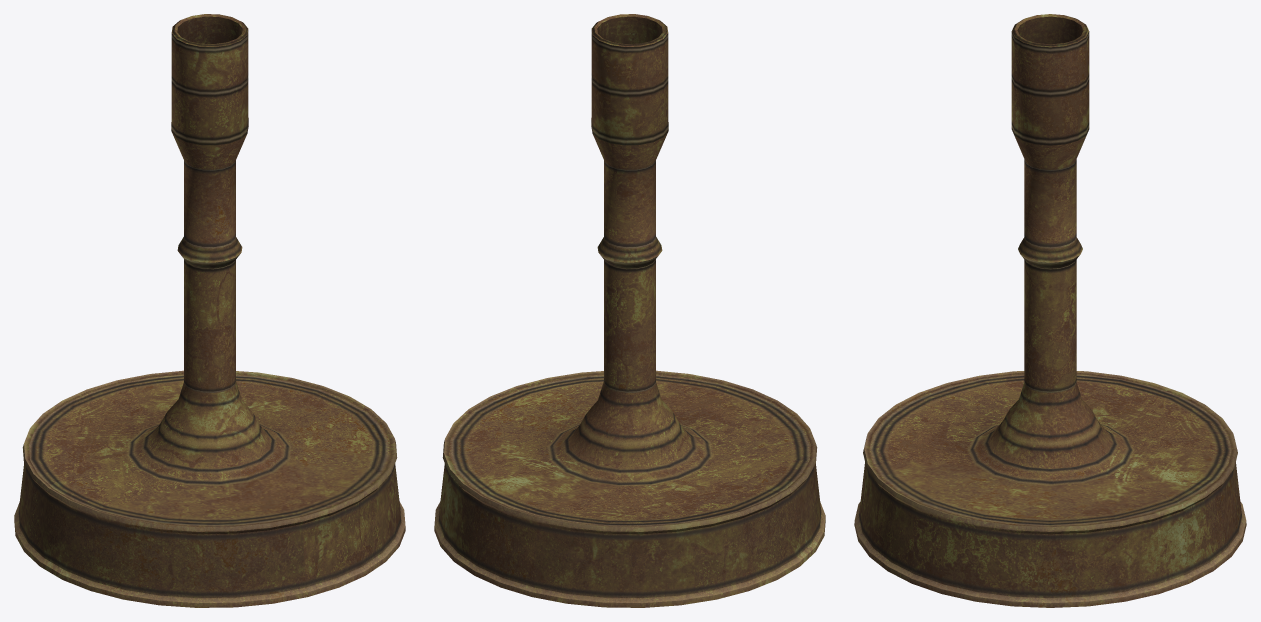
The model's file is candle_stick.obj.
The picture shows the model from 3 angles, left to right: view 1: azimuth 30°, elevation 25°; view 2: azimuth 150°, elevation 25°; view 3: azimuth 270°, elevation 25°; orthographic projection.
Parts seen in each view (by area): view 1: candle_stick_MED_Cylinder.002; view 2: candle_stick_MED_Cylinder.002; view 3: candle_stick_MED_Cylinder.002.
Boxes of the visible parts, x1,y1,x2,y2 form: candle_stick_MED_Cylinder.002: (14,14,405,607); candle_stick_MED_Cylinder.002: (434,14,825,607); candle_stick_MED_Cylinder.002: (854,14,1246,607).
Bounding box in the file's own units: 1.8 × 2.51 × 1.8.
1 material, 1 textured.
